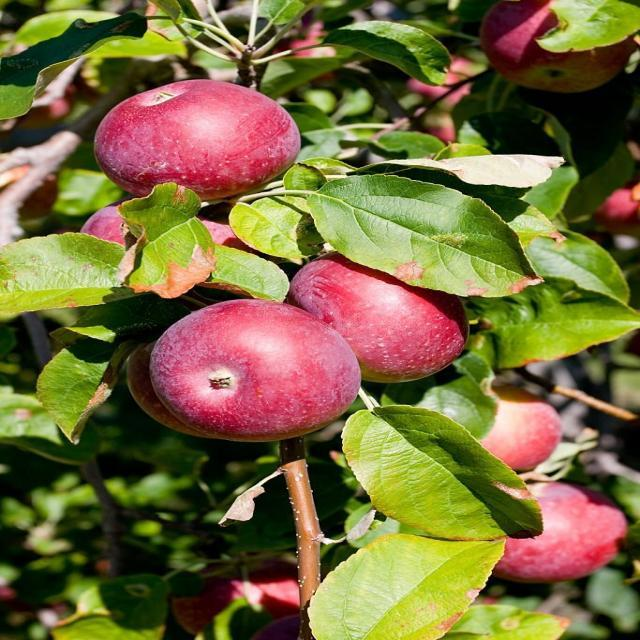Red Apple: (168, 304, 356, 424), (105, 84, 290, 186), (299, 257, 463, 363), (490, 2, 617, 80), (509, 487, 620, 568), (124, 345, 221, 433), (188, 560, 312, 627), (96, 204, 221, 267), (476, 386, 559, 460), (410, 56, 484, 131), (276, 16, 337, 71), (198, 212, 252, 261), (603, 185, 640, 222)
